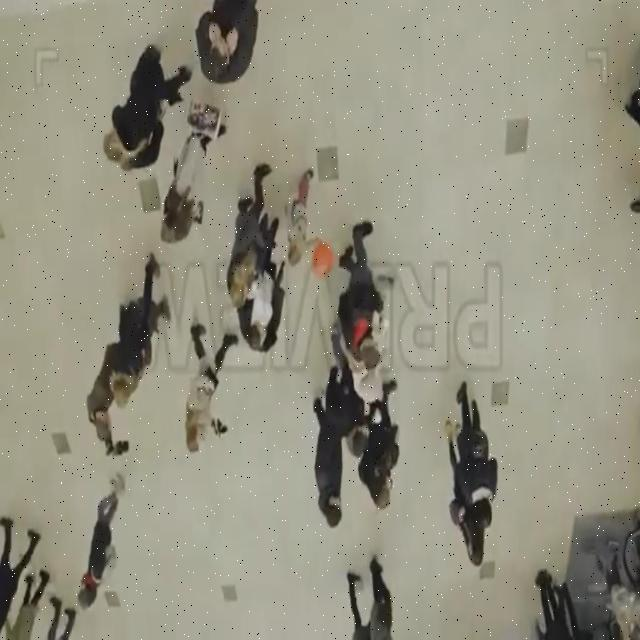humans: (105, 40, 192, 179), (110, 253, 172, 416), (334, 216, 390, 376), (164, 102, 226, 234), (184, 316, 238, 462), (454, 378, 500, 536), (326, 319, 373, 468), (442, 423, 486, 570), (76, 477, 122, 613), (228, 152, 268, 306), (192, 0, 262, 86), (236, 248, 287, 364), (309, 396, 348, 529), (362, 386, 402, 514), (81, 362, 121, 458), (283, 166, 316, 276)
